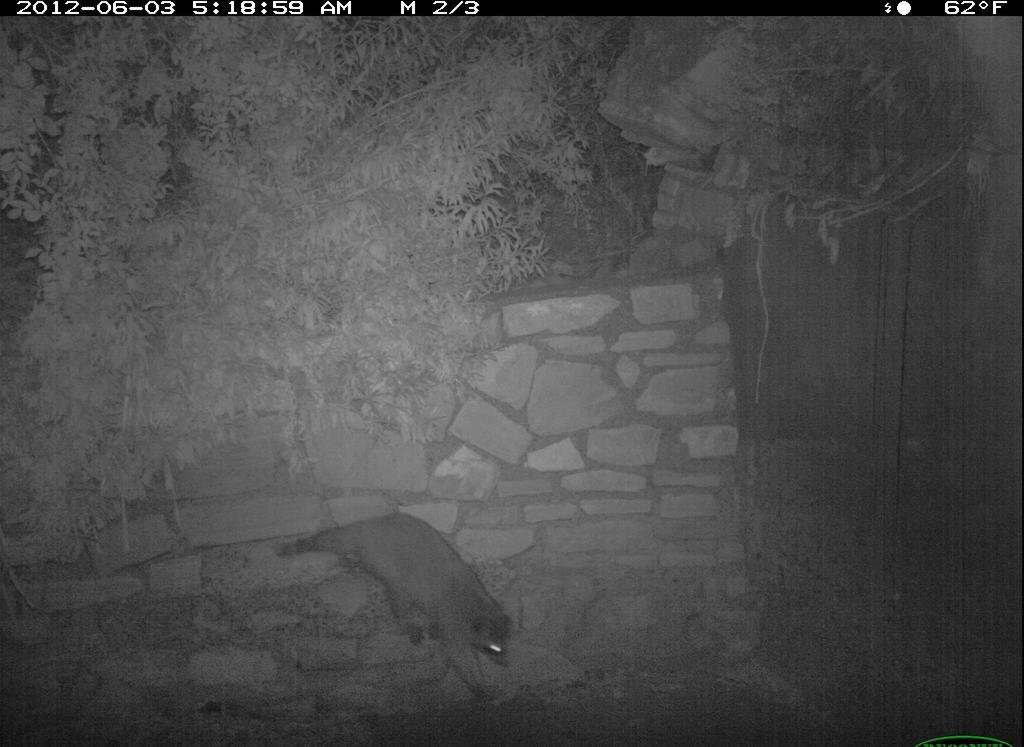raccoon: (271, 513, 537, 711)
